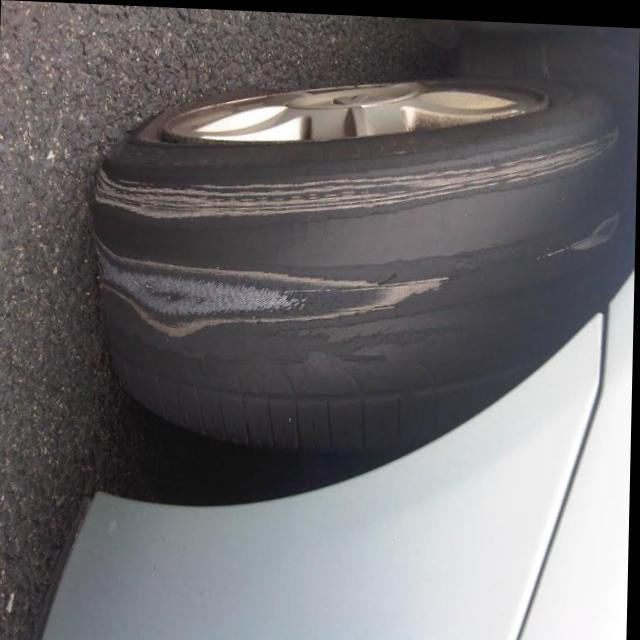Flat spots: (95, 188, 533, 379)
